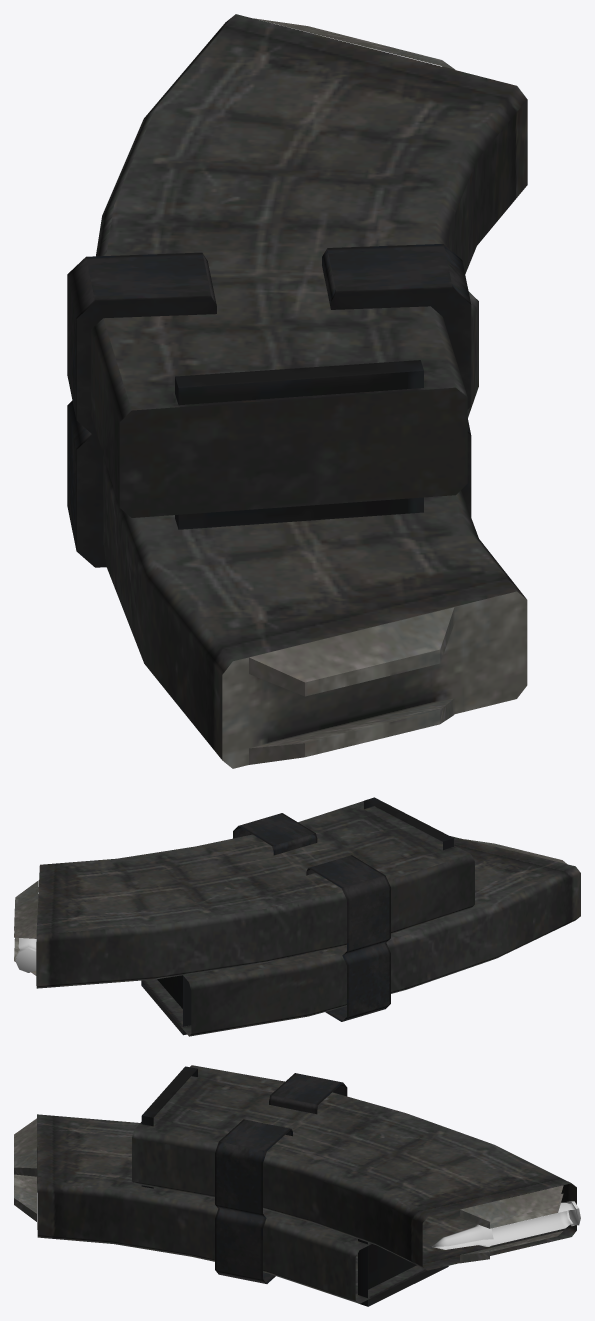
File: t6_attach_fastmag_type95_view_LOD0.obj
3 views of the same model, one above another, from view 1: azimuth 30°, elevation 25°; view 2: azimuth 150°, elevation 25°; view 3: azimuth 270°, elevation 25° (orthographic). The views are drawn at different scales.
Visible parts, largest first — view 1: mtl_t6_wpn_ar_type95, mtl_t6_wpn_ar_type95_camo3; view 2: mtl_t6_wpn_ar_type95, mtl_t6_wpn_ar_type95_camo3, mtl_t6_attach_bullet; view 3: mtl_t6_wpn_ar_type95, mtl_t6_wpn_ar_type95_camo3, mtl_t6_attach_bullet.
Boxes of the visible parts, left/top/right/bottom form: mtl_t6_wpn_ar_type95: left=76, top=14, right=527, bottom=768; mtl_t6_wpn_ar_type95_camo3: left=67, top=244, right=471, bottom=550; mtl_t6_wpn_ar_type95: left=14, top=797, right=580, bottom=1036; mtl_t6_wpn_ar_type95_camo3: left=233, top=813, right=390, bottom=1021; mtl_t6_attach_bullet: left=15, top=938, right=36, bottom=972; mtl_t6_wpn_ar_type95: left=14, top=1065, right=576, bottom=1306; mtl_t6_wpn_ar_type95_camo3: left=215, top=1073, right=347, bottom=1283; mtl_t6_attach_bullet: left=432, top=1201, right=580, bottom=1249.
Size of the model in its own units: 19.25 by 7.01 by 27.04.
